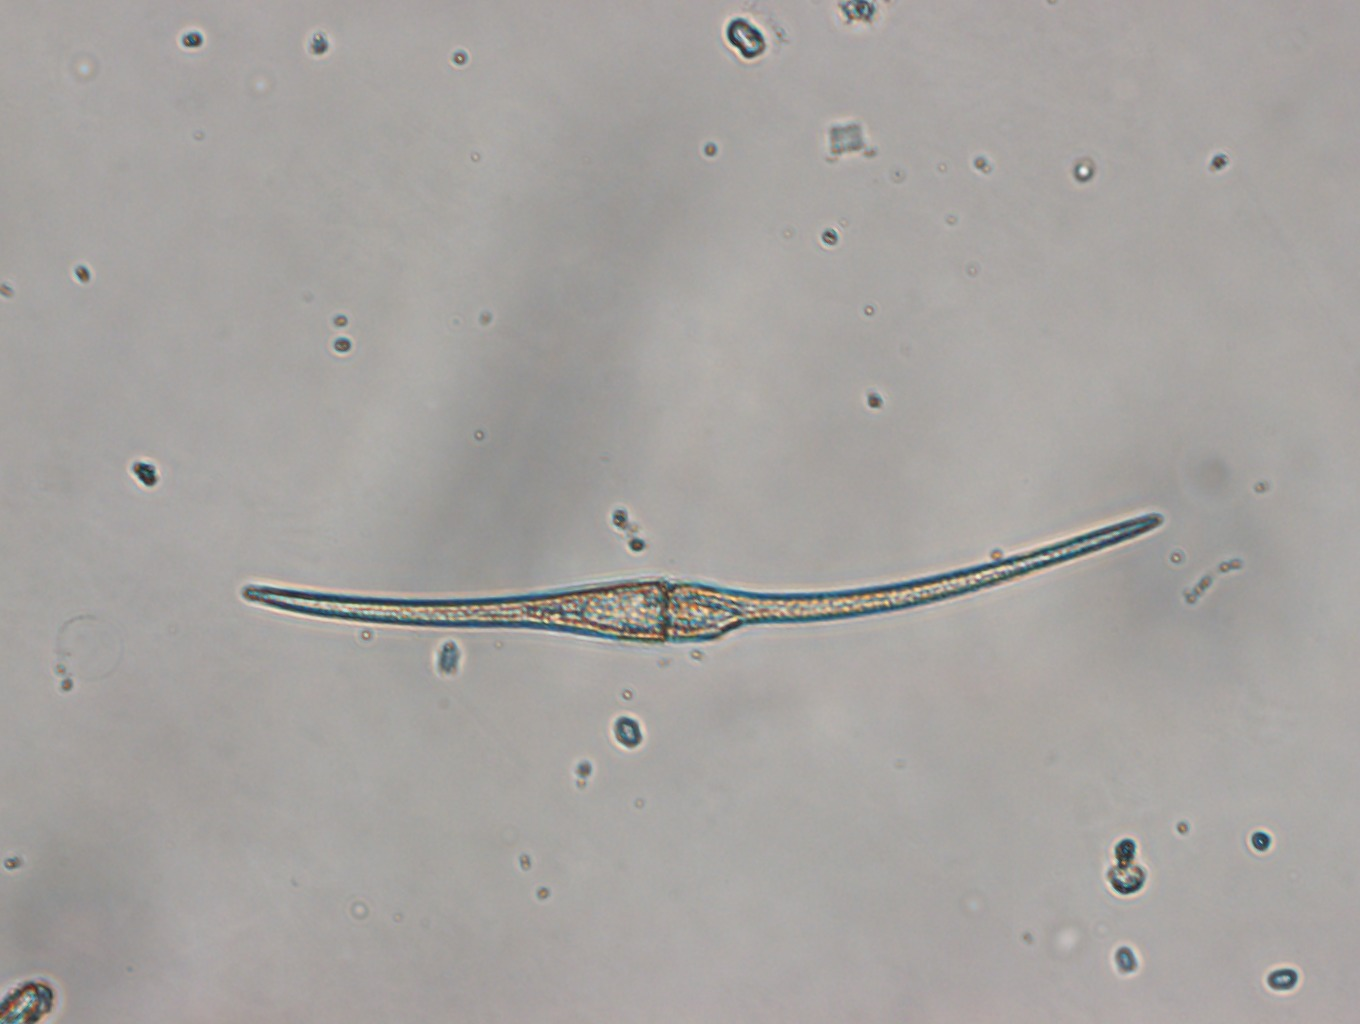ceratium fusus: (237, 510, 1164, 645)
